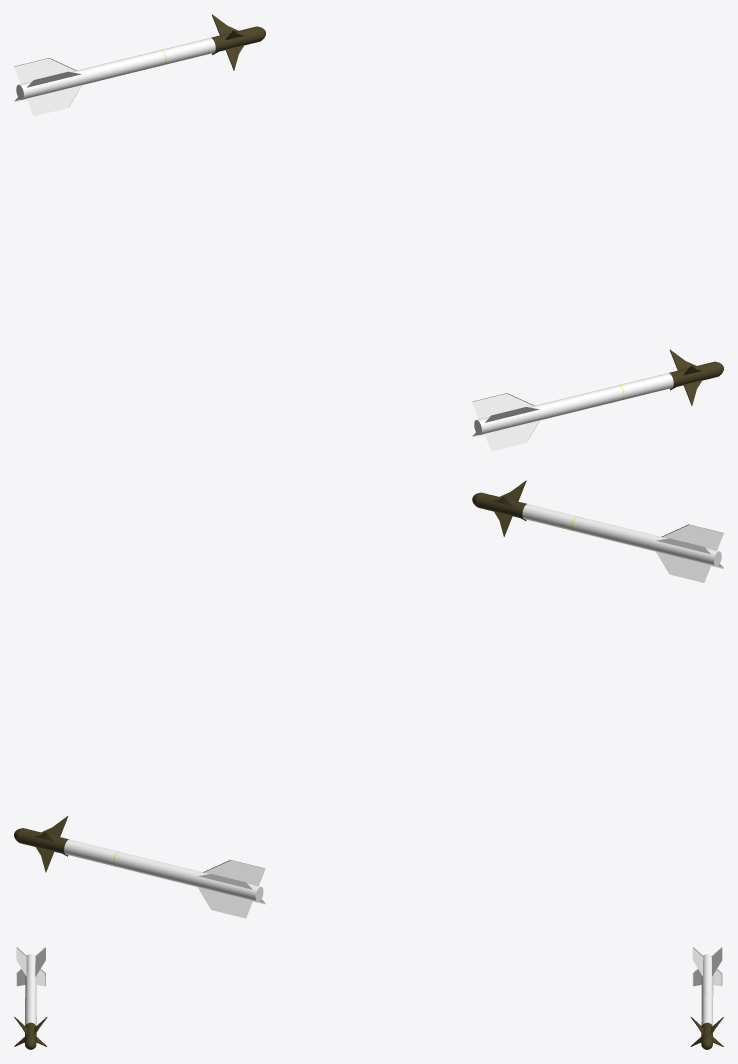
File: f16caim916.glb
3 renders of one model, top to bottom at view 1: azimuth 30°, elevation 25°; view 2: azimuth 150°, elevation 25°; view 3: azimuth 270°, elevation 25°, orthographic. The views are drawn at different scales.
Visible parts, largest first — view 1: 円柱.004, 円柱.005; view 2: 円柱.005, 円柱.004; view 3: 円柱.004, 円柱.005.
Part boxes in pixels (x1,y1,x2,y2): 円柱.004: (14, 14, 265, 116); 円柱.005: (472, 349, 723, 451); 円柱.005: (472, 480, 723, 582); 円柱.004: (14, 816, 265, 918); 円柱.004: (690, 947, 723, 1049); 円柱.005: (14, 947, 47, 1049).
Size of the model in its own units: 3.38 by 0.543 by 11.49.
2 materials, 2 textured.
